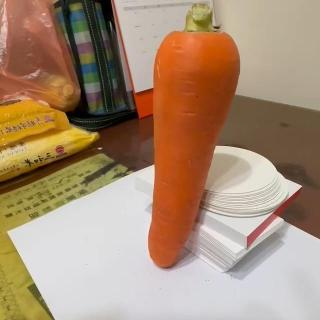carrot: (146, 2, 242, 270)
